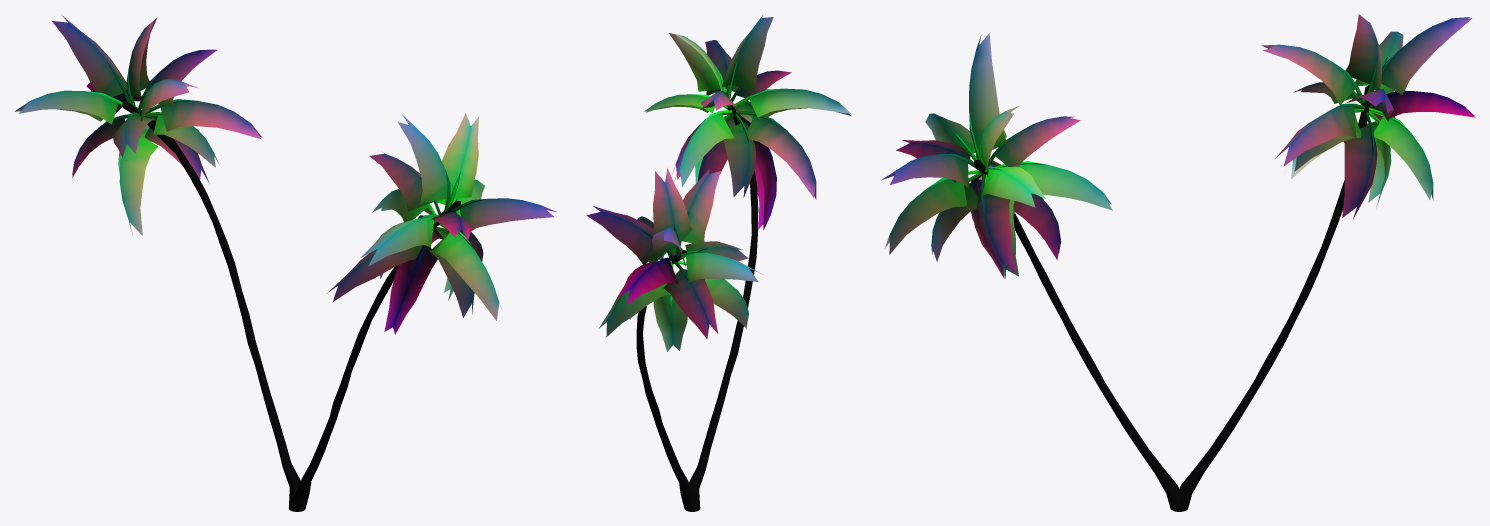
The model's file is M_Palm_1_6.fbx.
The picture shows the model from 3 angles, left to right: view 1: azimuth 30°, elevation 25°; view 2: azimuth 150°, elevation 25°; view 3: azimuth 270°, elevation 25°; orthographic projection. The views are drawn at different scales.
Parts seen in each view (by area): view 1: Palm_1_6; view 2: Palm_1_6; view 3: Palm_1_6.
Part boxes in pixels (x1,y1,x2,y2): Palm_1_6: (14, 14, 556, 511); Palm_1_6: (586, 15, 851, 511); Palm_1_6: (881, 14, 1474, 511).
Bounding box in the file's own units: 838 × 1213 × 1356.
